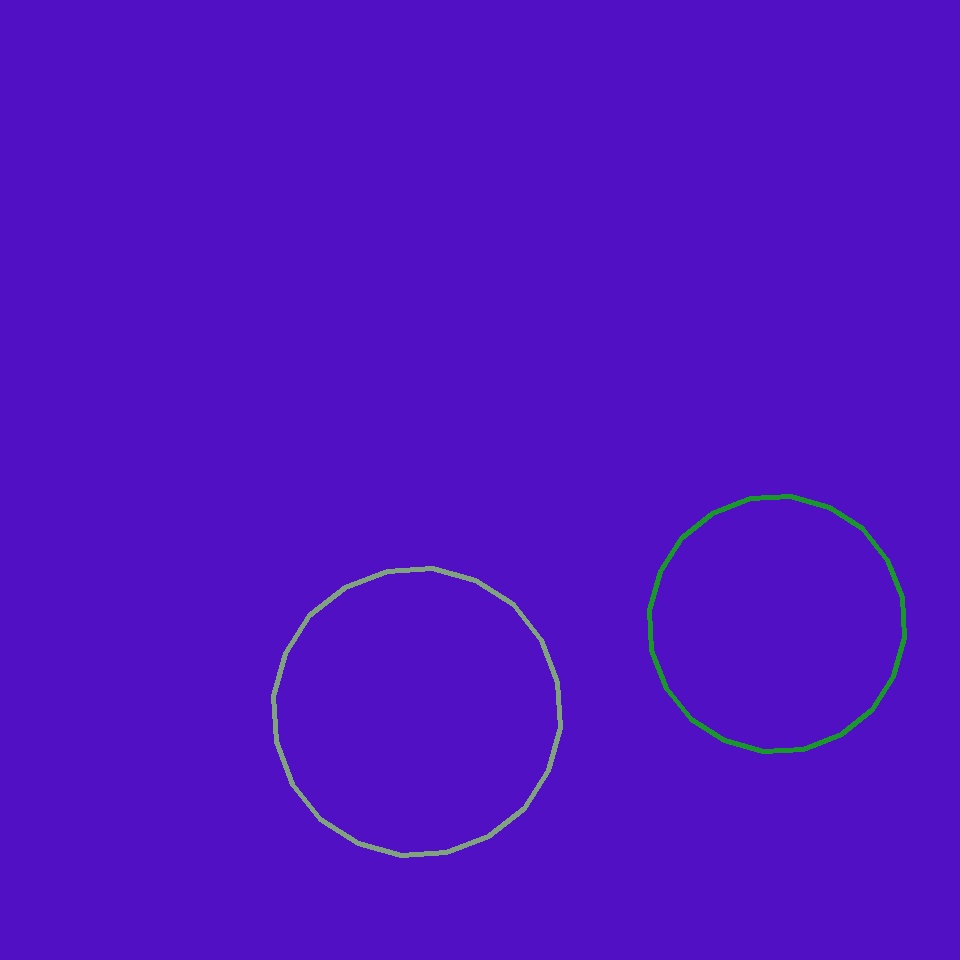triangle: (274, 569, 560, 856), (650, 496, 904, 752)
